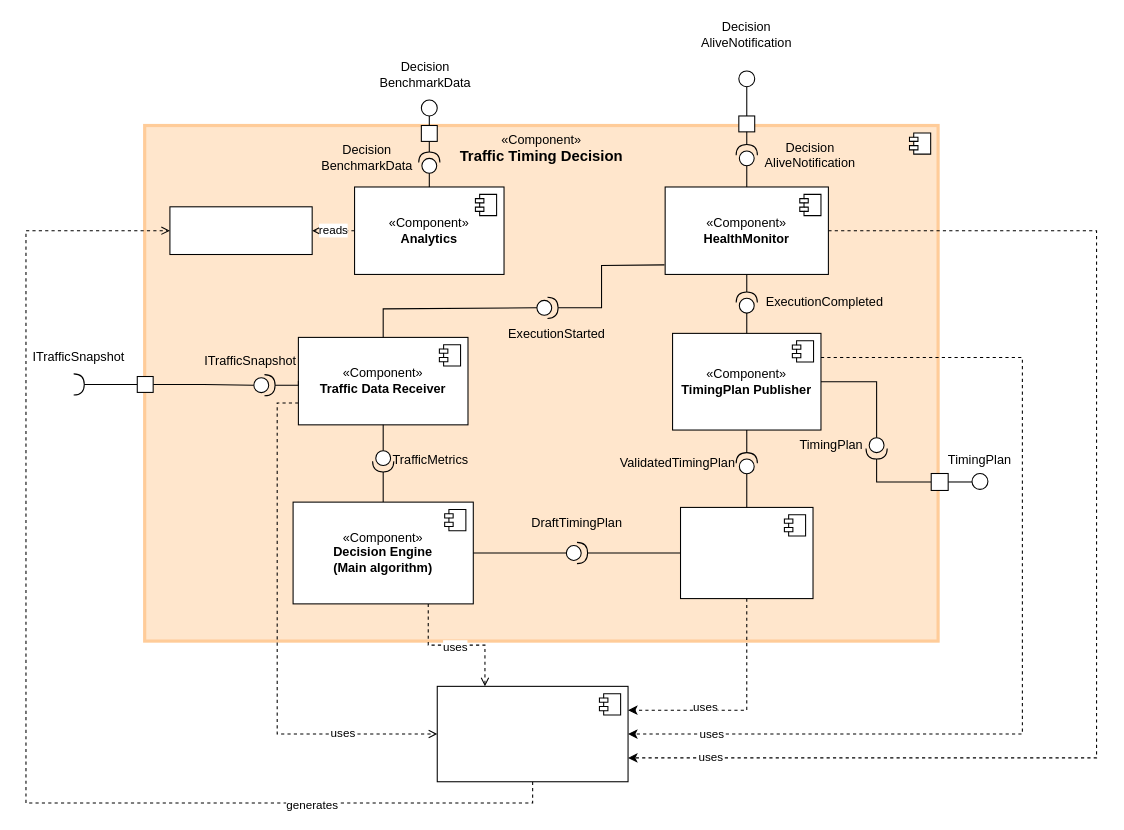
This 1124x830 diagram has some shape labels left out. The box of each missing label's shape, as (x1, y1, x2, y2) in pixels:
<<artifact>> Log File: (169, 206, 312, 255)
«Component» Constraint Manager: (679, 506, 813, 599)
«External» S-CORE mw::log: (436, 685, 628, 782)
